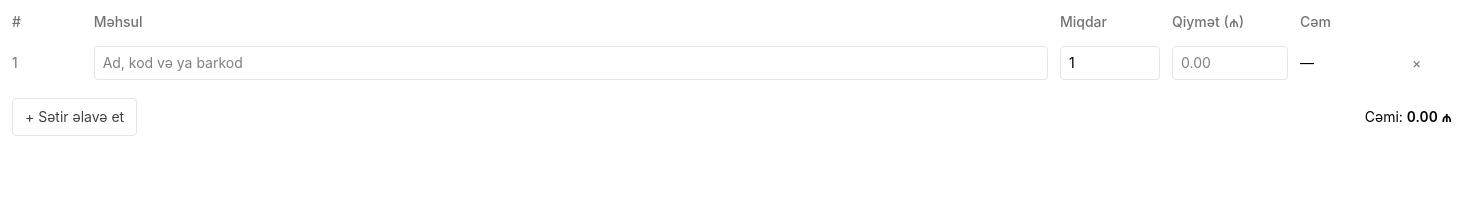
Test: DocumentLinesEditor product picker › works on every added line
Click the button "+ Sətir əlavə et" at x=75, y=117, box [12,98,137,136]
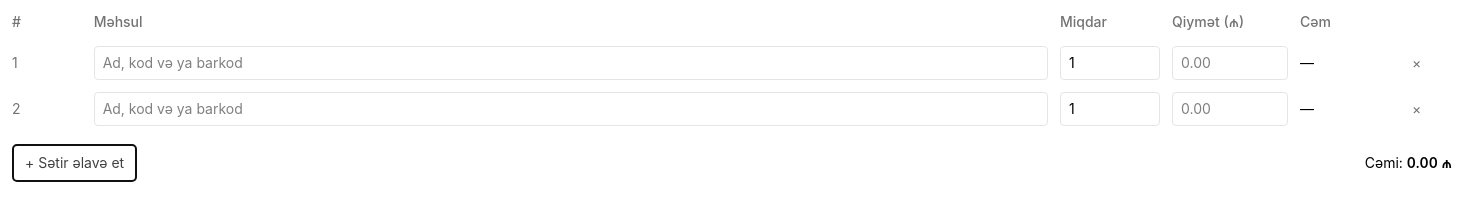
Type "MHS-001" into the dropdown named "Sətir 2: məhsul" at x=571, y=109, box [94,92,1048,126]
Then press Enter
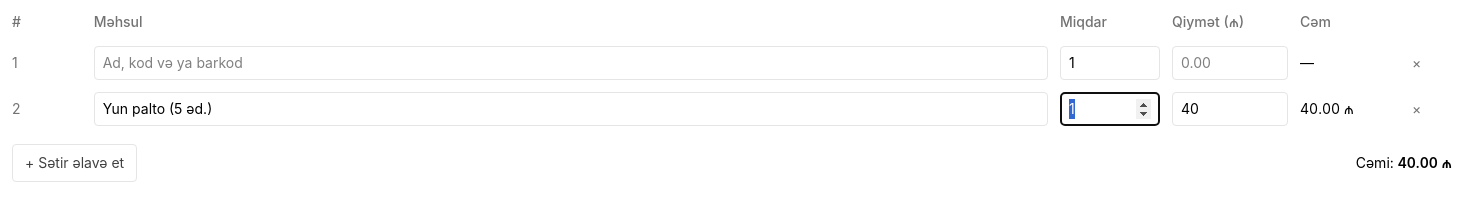
Now the dropdown named "Sətir 2: məhsul" holds "Yun palto (5 əd.)", box [94,92,1048,126]
